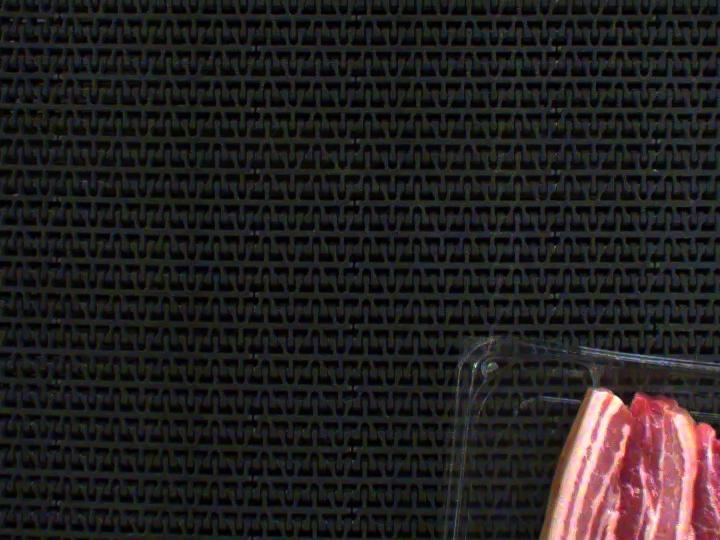packaging-error: (581, 358, 611, 391)
